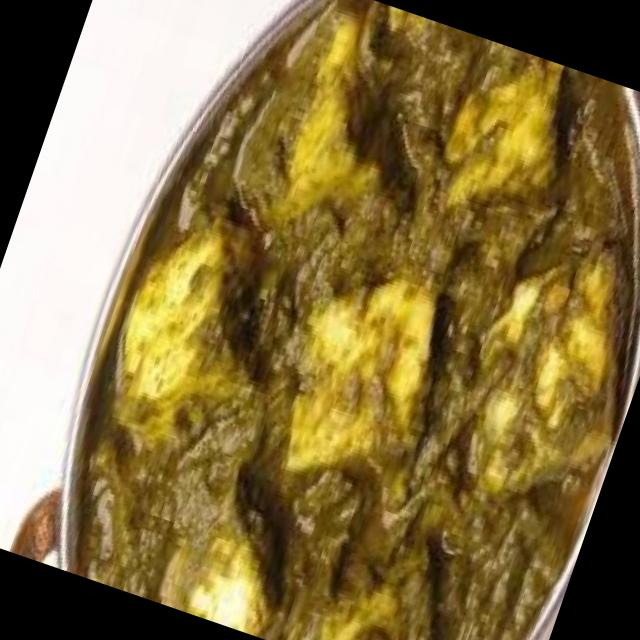palak_paneer: (34, 0, 640, 640)
